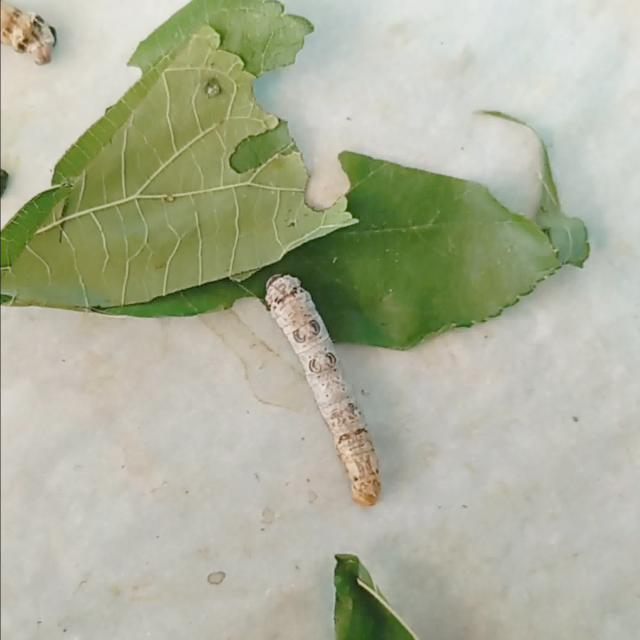Grasserie: (253, 252, 412, 524)
